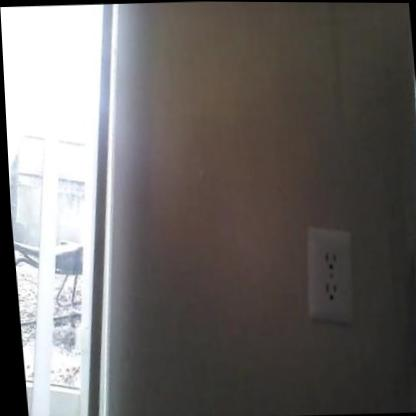OUTLET: (303, 229, 358, 321)
